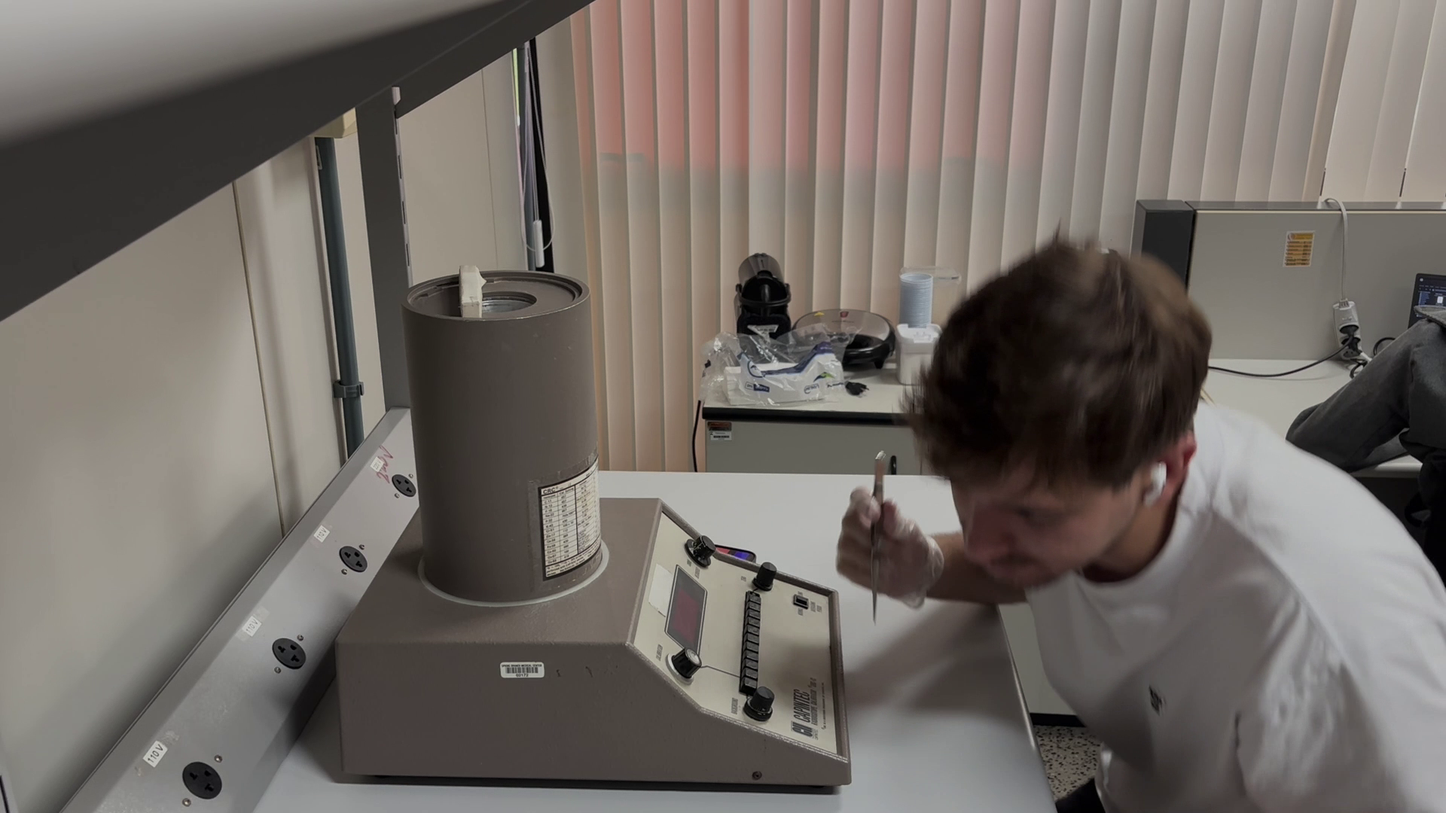Ativimetro: (398, 267, 609, 606)
Com_Luva: (834, 486, 944, 615)
